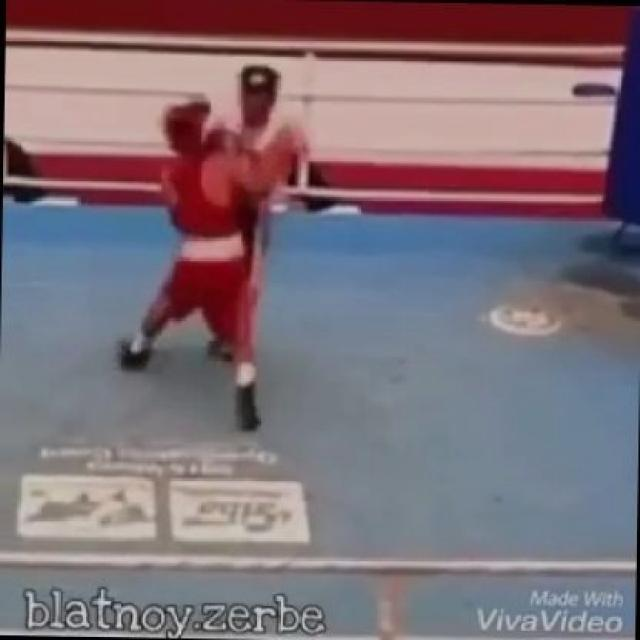fight: (102, 44, 344, 442)
